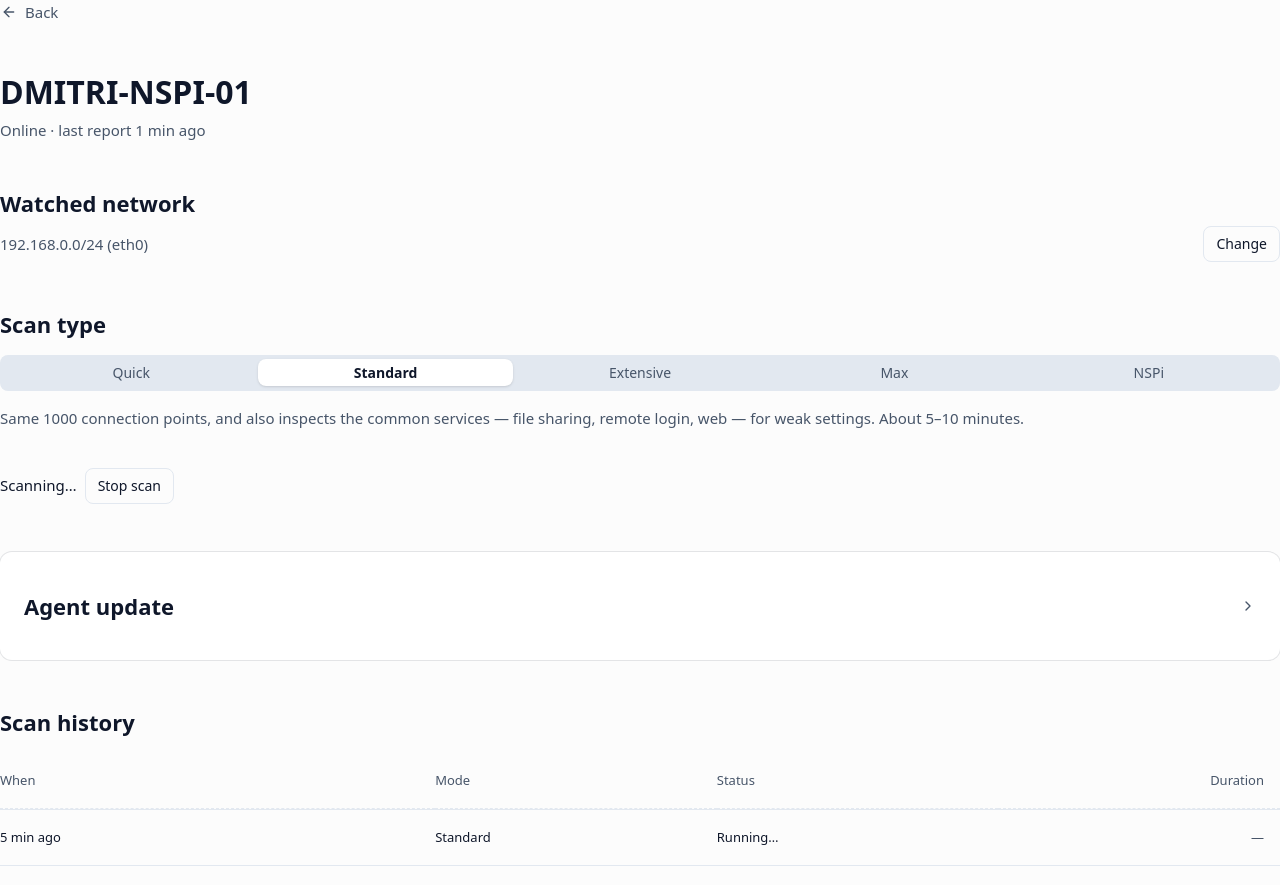
Test: DeviceDetail stop scan › confirms the stop copy, dismisses without cancelling, and shows Stopping… until terminal
Step 1. Click the button "Stop scan" → (129, 486), box [85,468,174,504]
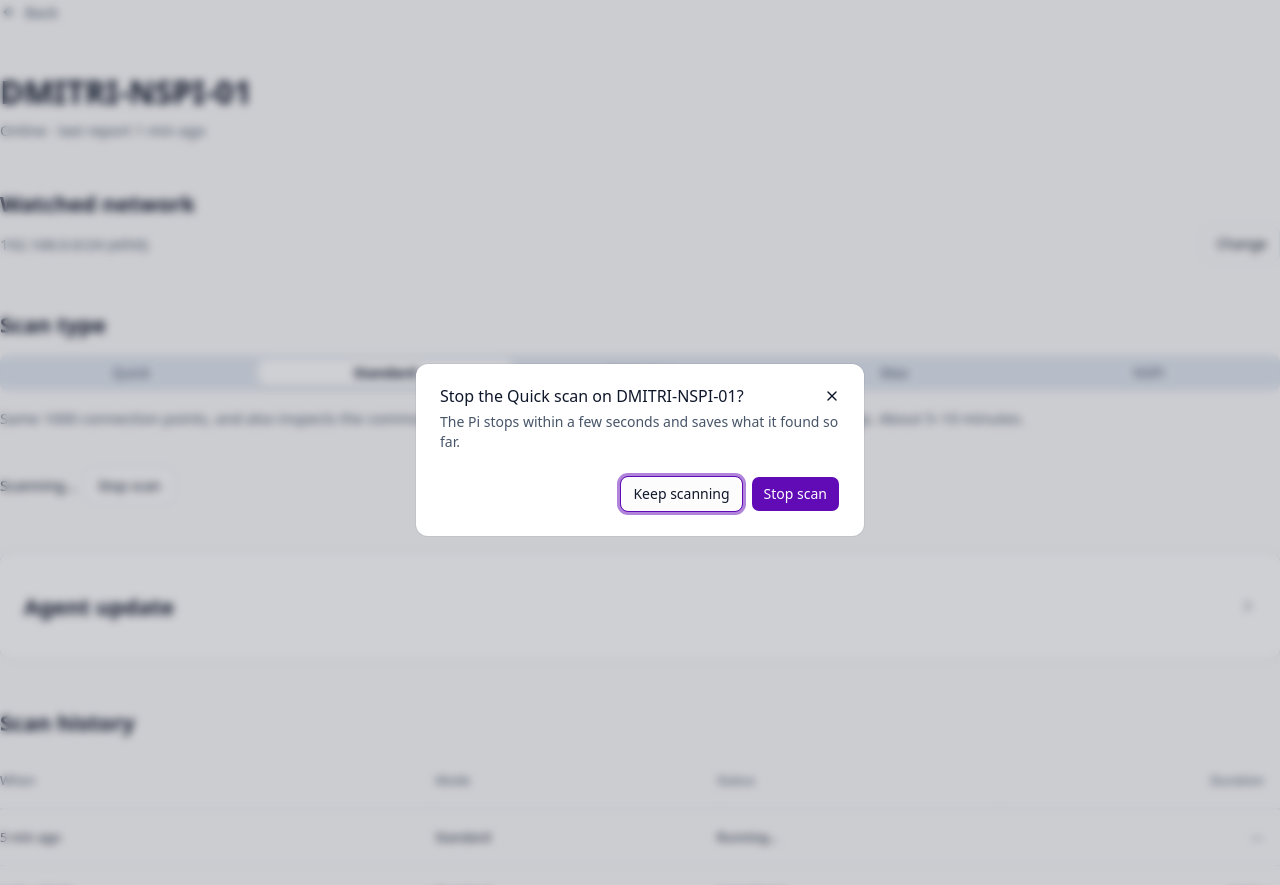
expect the heading "Stop the Quick scan on DMITRI-NSPI-01?" is shown: met, box [440,385,744,407]
expect the text "The Pi stops within a few seconds and saves what it found so far." is shown: met, box [440,412,840,452]
expect the button "Keep scanning" is shown: met
Step 2. Click the button "Keep scanning" → (682, 494), box [620,476,743,512]
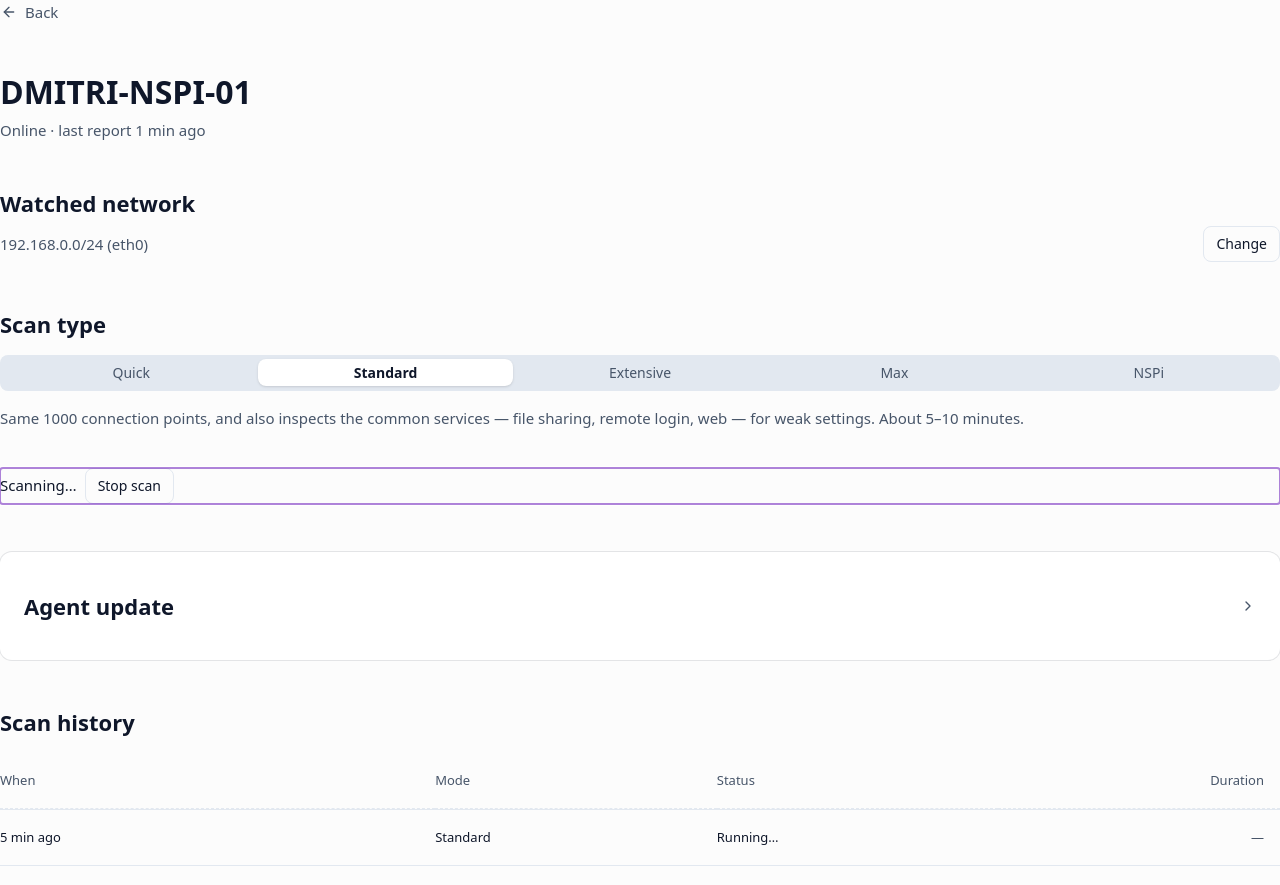
expect the text "Scanning…" is shown: met, box [0,474,77,497]
expect the dialog is gone: met
Step 3. Click the button "Stop scan" → (129, 486), box [85,468,174,504]
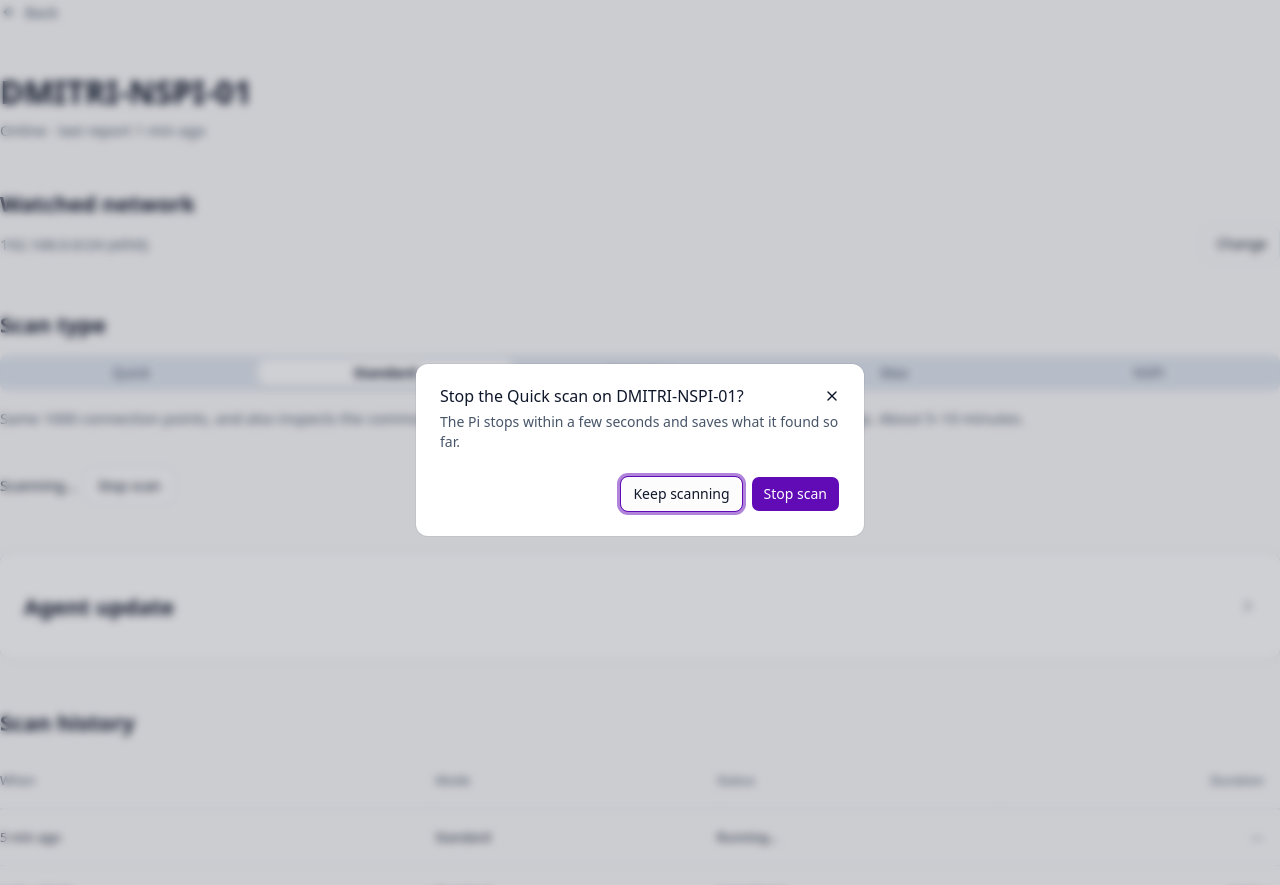
Step 4. Click the button "Stop scan" → (795, 494), box [751,476,840,512]
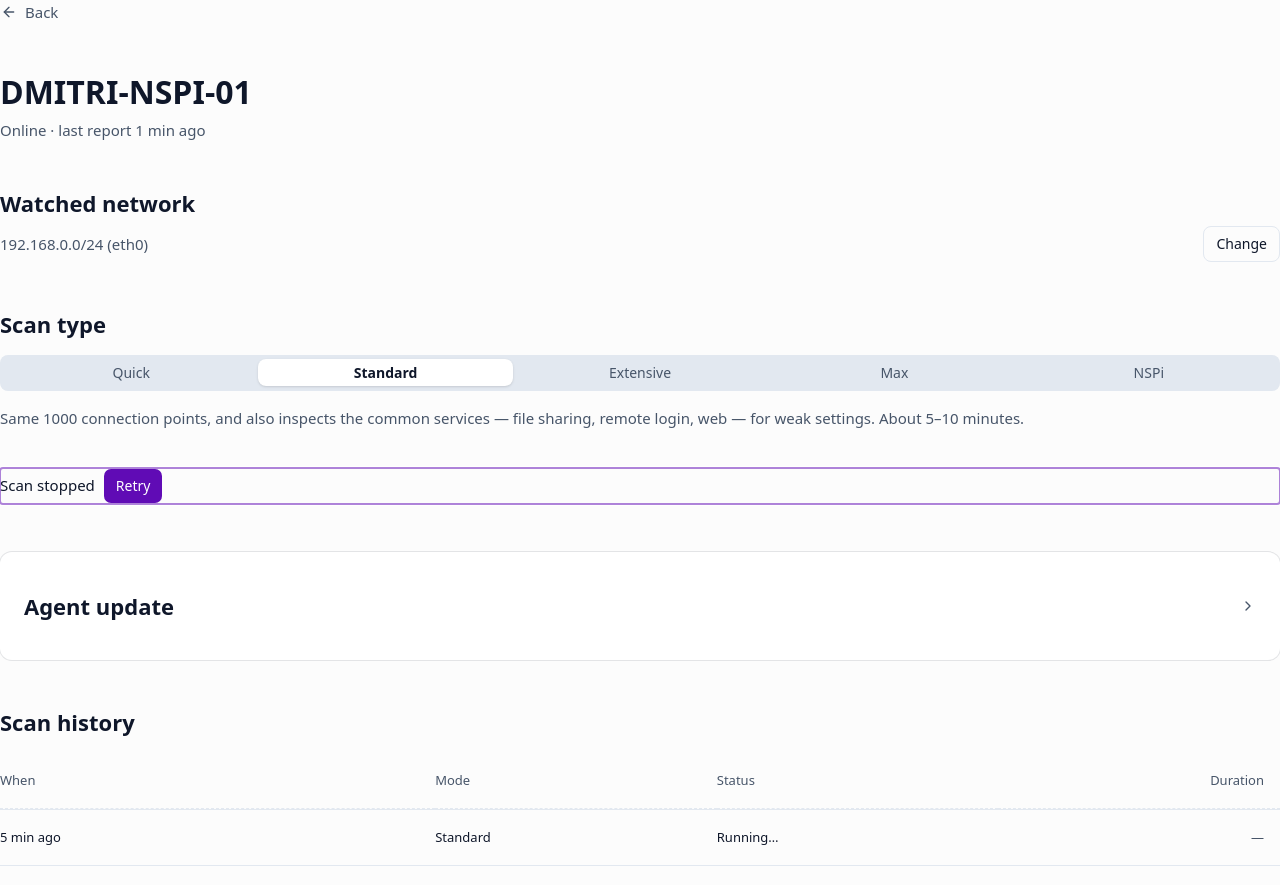
expect the button "Stop scan" is gone: met
expect the text "Scan stopped" is shown: met, box [0,474,95,497]
expect the button "Retry" is shown: met, box [103,468,163,504]
